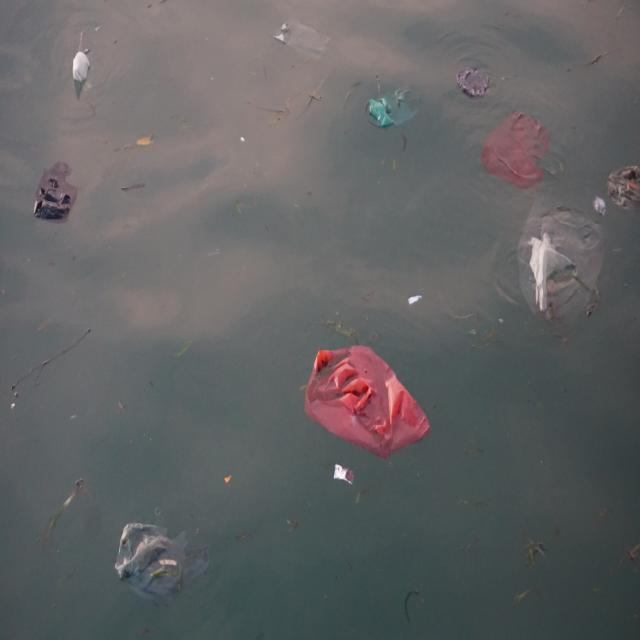Bungkus Minuman: (72, 48, 93, 90)
Kantong Plastik: (304, 340, 435, 462), (517, 193, 608, 330), (114, 516, 209, 616), (479, 106, 550, 192), (31, 160, 83, 225), (272, 14, 335, 66), (368, 86, 420, 130), (605, 163, 640, 213)
